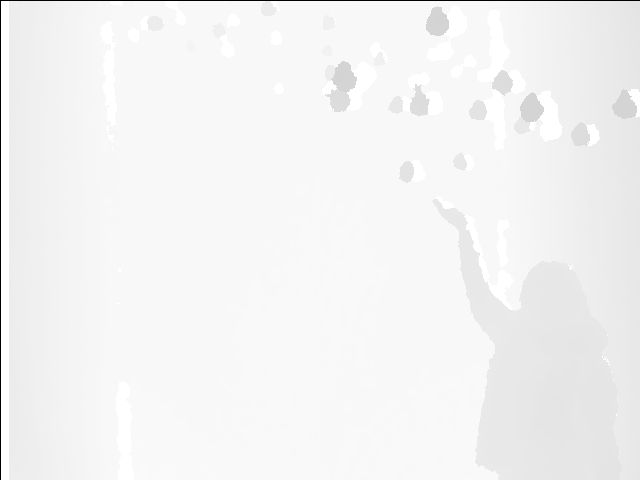hand: (432, 196, 472, 239)
